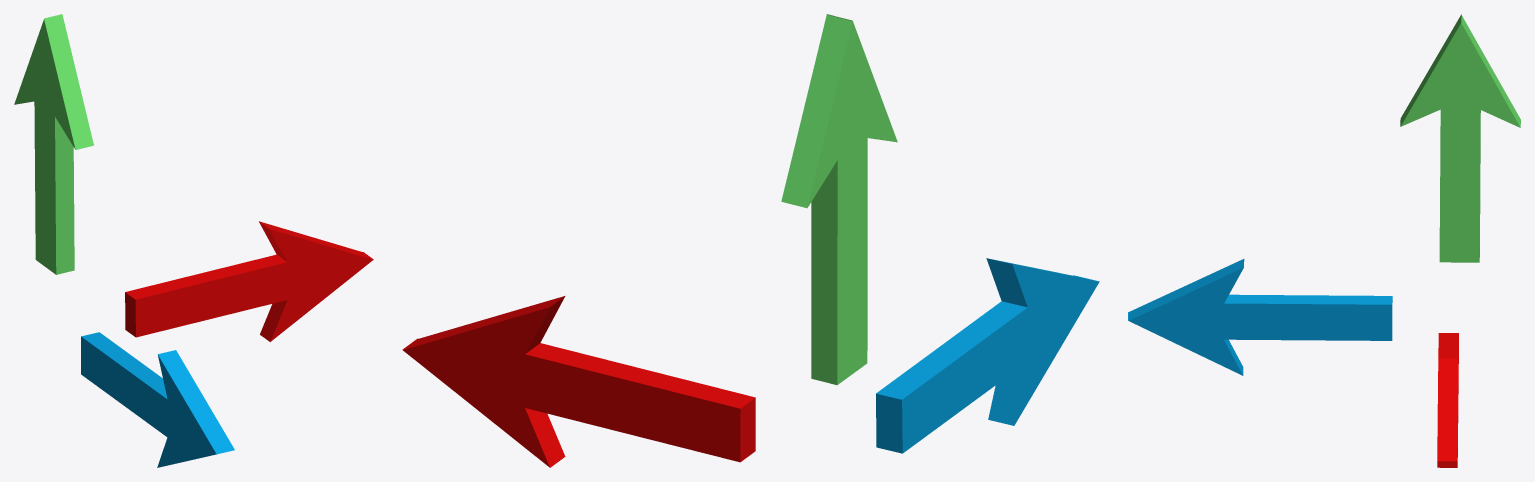
File: Orientation.fbx
3 renders of one model, left to right at view 1: azimuth 30°, elevation 25°; view 2: azimuth 150°, elevation 25°; view 3: azimuth 270°, elevation 25°, orthographic. The views are drawn at different scales.
Parts seen in each view (by area): view 1: polySurface5, polySurface6, polySurface7; view 2: polySurface5, polySurface6, polySurface7; view 3: polySurface7, polySurface6, polySurface5.
Part boxes in pixels (x1,y1,x2,y2): polySurface5: (125,221,373,341); polySurface6: (14,14,93,274); polySurface7: (81,332,234,467); polySurface5: (402,296,755,467); polySurface6: (781,14,897,385); polySurface7: (876,258,1099,453); polySurface7: (1128,259,1392,375); polySurface6: (1400,14,1520,262); polySurface5: (1437,333,1458,467).
Size of the model in its own units: 5.34 by 5.9 by 5.94.
